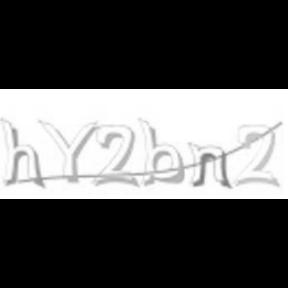2: (236, 121, 282, 189), (96, 124, 140, 188)
Y: (36, 119, 98, 183)
b: (136, 116, 186, 188)
h: (0, 117, 46, 189)
n: (186, 139, 232, 189)
